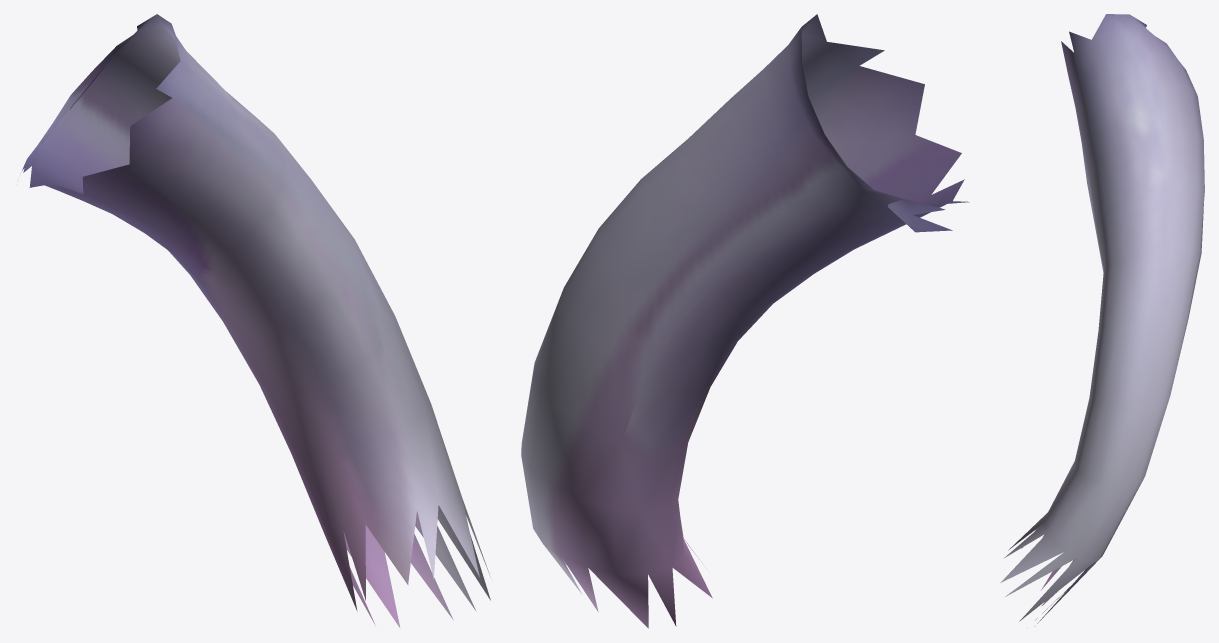
Rendered from Tentaculo6.obj.
3 renders of one model, left to right at view 1: azimuth 30°, elevation 25°; view 2: azimuth 150°, elevation 25°; view 3: azimuth 270°, elevation 25°, orthographic. The views are drawn at different scales.
Visible parts, largest first — view 1: Tentaculo6; view 2: Tentaculo6; view 3: Tentaculo6.
Part boxes in pixels (<box>): Tentaculo6: <box>22,14,490,627</box>; Tentaculo6: <box>521,14,969,628</box>; Tentaculo6: <box>1000,14,1204,626</box>.
Bounding box in the file's own units: 10.16 × 14.81 × 5.32.
